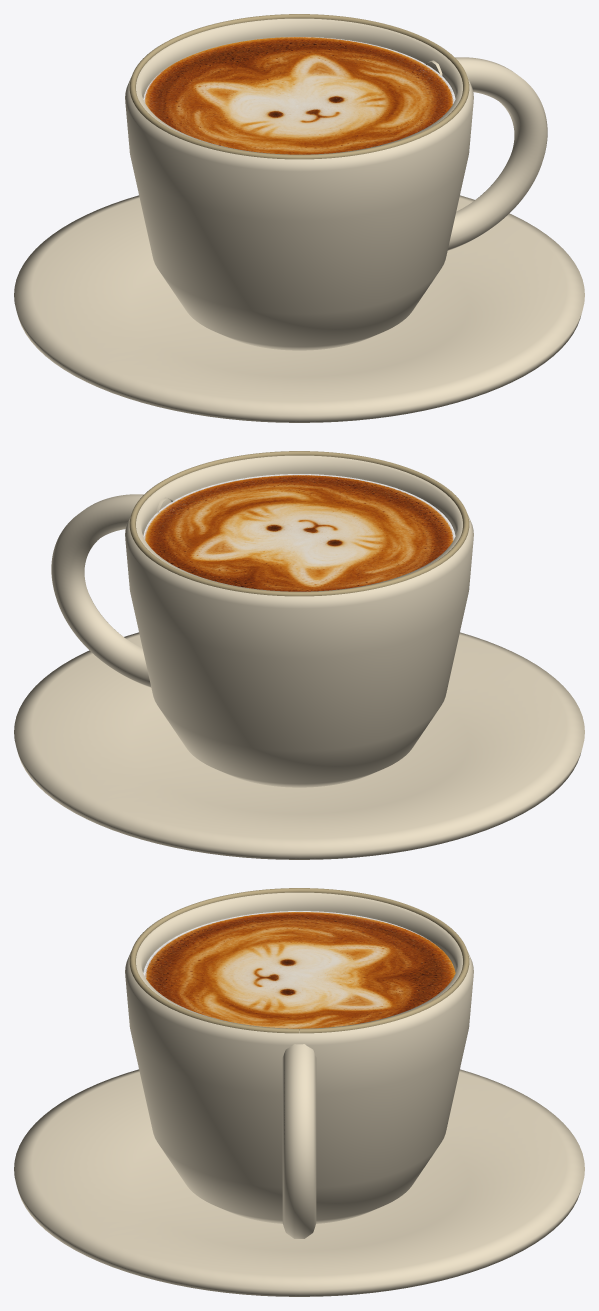
Rendered from coffee.glb.
3 views of the same model, one above another, from view 1: azimuth 30°, elevation 25°; view 2: azimuth 150°, elevation 25°; view 3: azimuth 270°, elevation 25° (orthographic).
Parts seen in each view (by area): view 1: EXPORT_Hollow cup, EXPORT_Cat latte art, EXPORT_Cup glaze lip; view 2: EXPORT_Hollow cup, EXPORT_Cat latte art, EXPORT_Cup glaze lip; view 3: EXPORT_Hollow cup, EXPORT_Cat latte art, EXPORT_Cup glaze lip.
Boxes of the visible parts, x1,y1,x2,y2 form: EXPORT_Hollow cup: (14, 18, 584, 422); EXPORT_Cat latte art: (143, 37, 455, 154); EXPORT_Cup glaze lip: (129, 14, 469, 159); EXPORT_Hollow cup: (14, 455, 584, 859); EXPORT_Cat latte art: (143, 474, 455, 591); EXPORT_Cup glaze lip: (129, 451, 469, 596); EXPORT_Hollow cup: (14, 892, 584, 1296); EXPORT_Cat latte art: (143, 911, 455, 1028); EXPORT_Cup glaze lip: (129, 888, 469, 1033).
Size of the model in its own units: 2.52 by 1.19 by 2.52.
3 materials, 1 textured.
